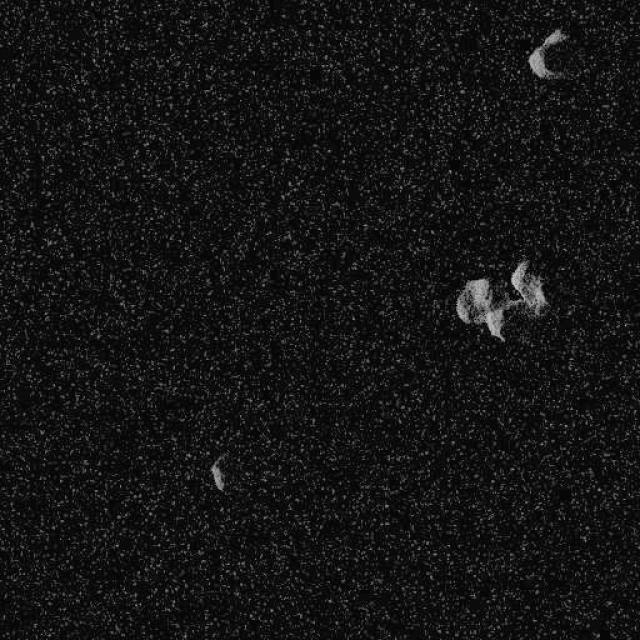D2: (455, 276, 511, 342), (526, 26, 569, 80), (510, 257, 549, 315), (208, 452, 228, 492)
